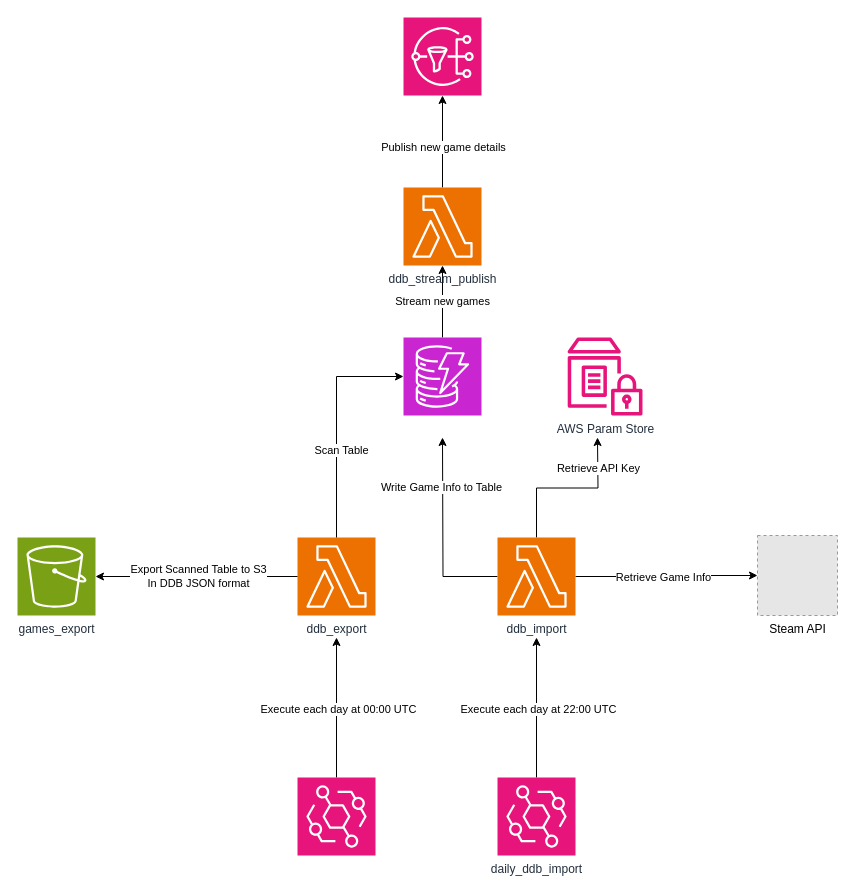
This 855x894 diagram has some shape labels left out. Grey dashed boxes stand in for pictures. The shapes that lost their labels are listed below. From the top down, each one's centre as x and y in pixels, then its label:
At [442,56]: "new-game-items".
At [442,376]: "games".
At [336,816]: "daily_ddb_export".
